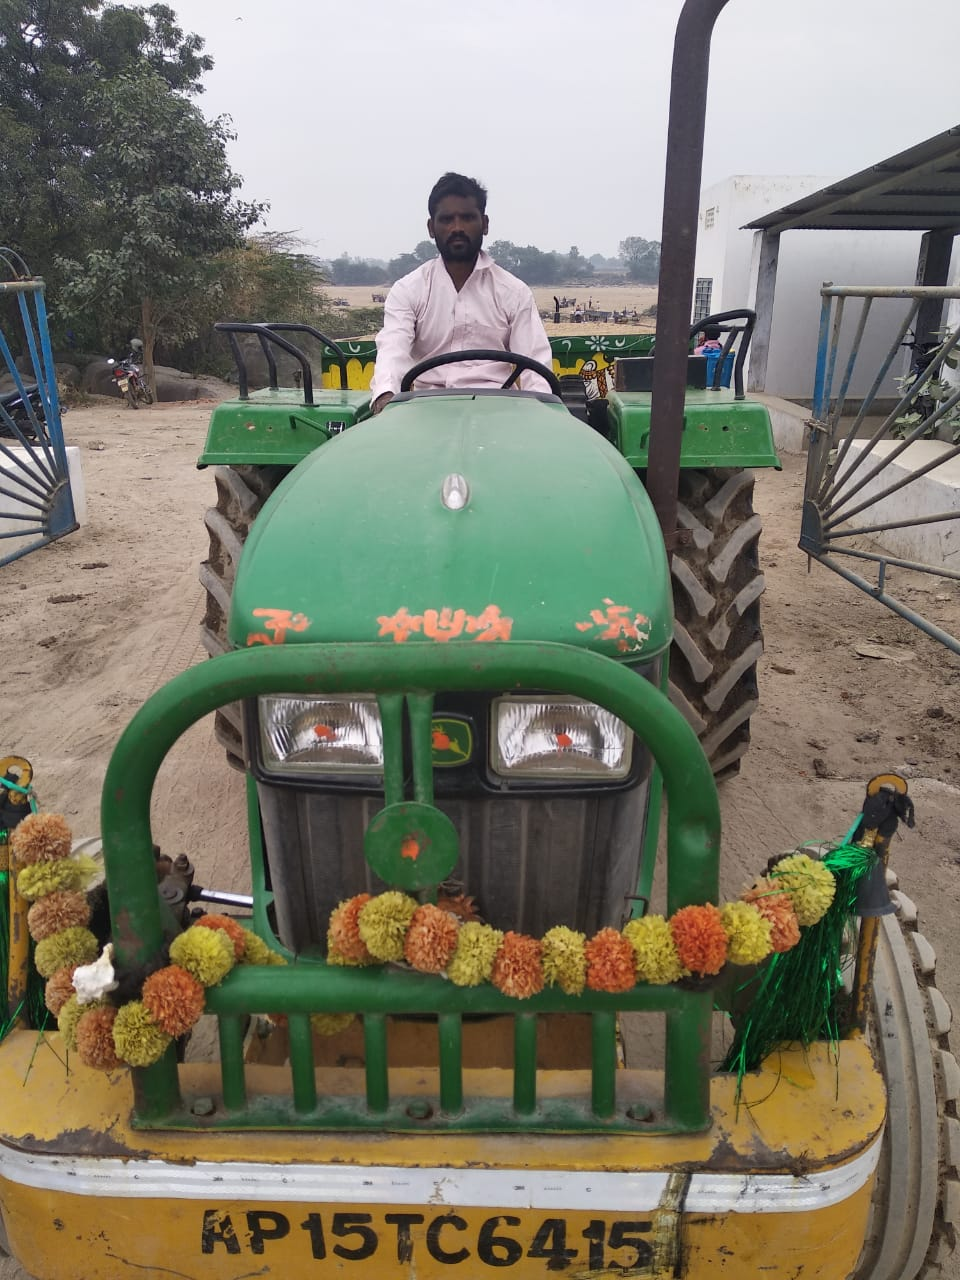num_plate: (187, 1200, 687, 1280)
